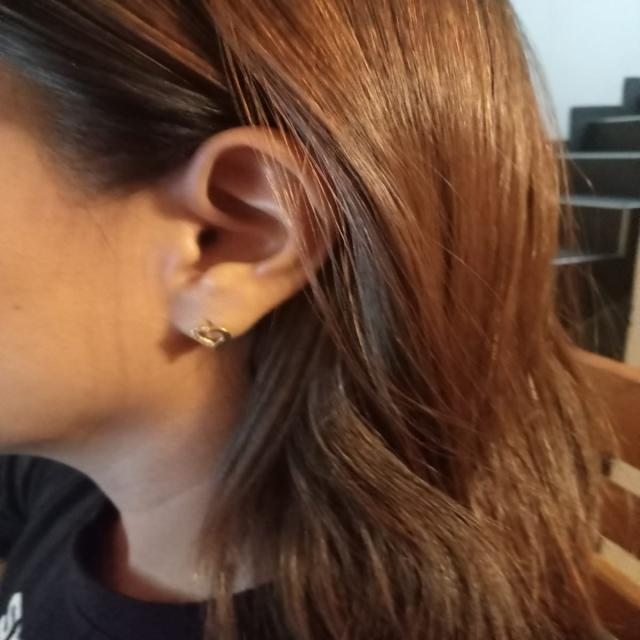ear: (160, 126, 323, 340)
